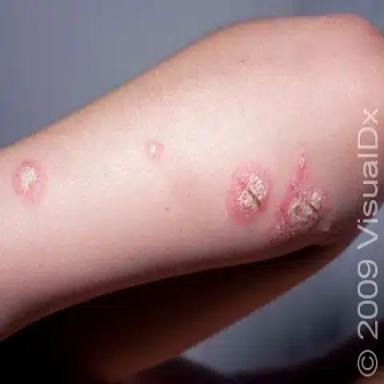Psoriasis: (270, 149, 335, 238), (226, 161, 274, 225), (12, 159, 48, 207), (147, 141, 163, 162)
